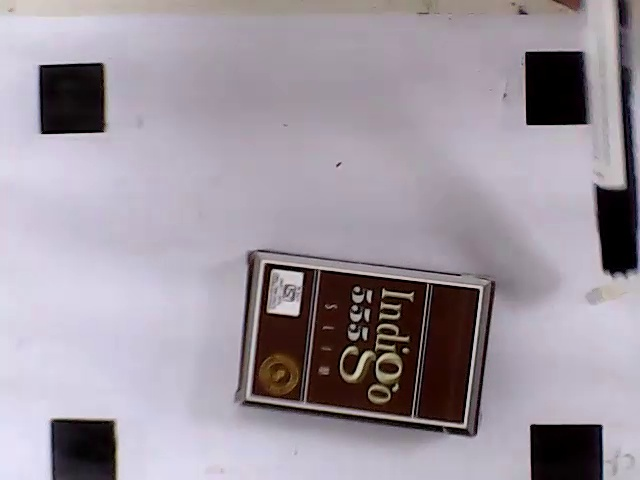BEX: (250, 262, 482, 427)
